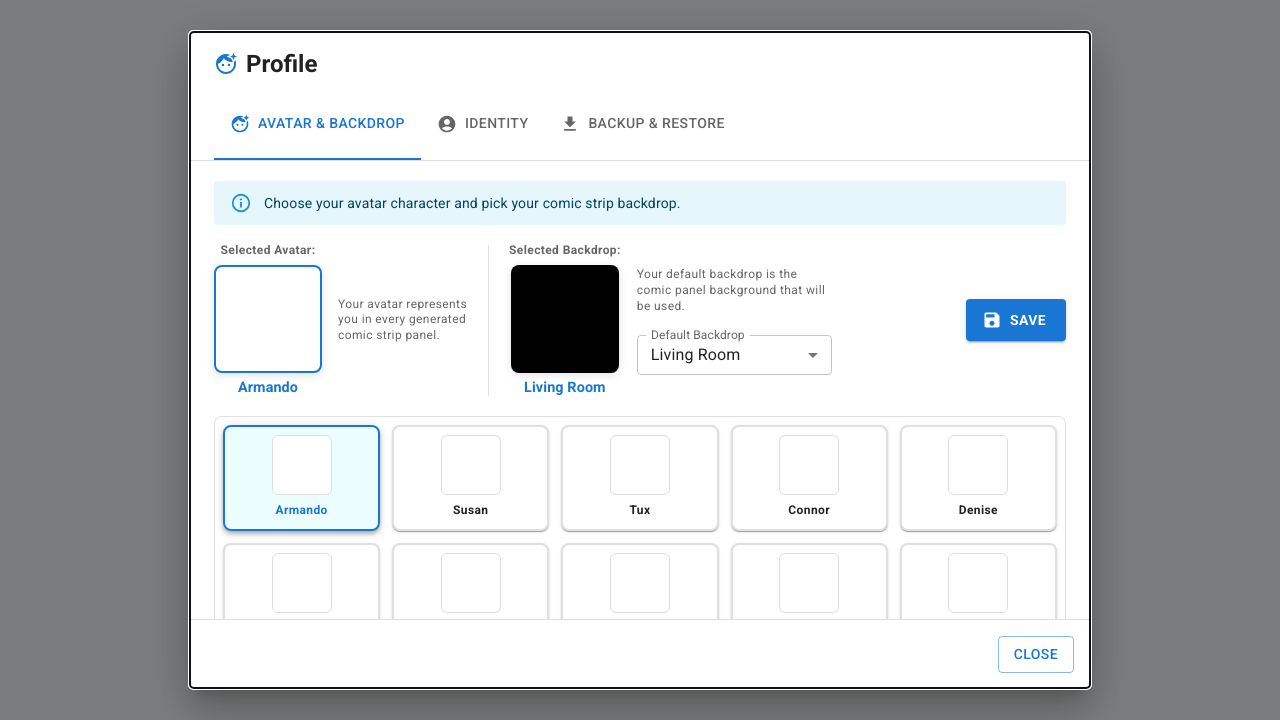
Test: Cloud Export & Cloud Restore E2E Flow › renders Cloud Export button to the left of Export File with a cloud icon
Click the tab "Backup & Restore".
click(643, 124)  # box [544, 88, 741, 160]
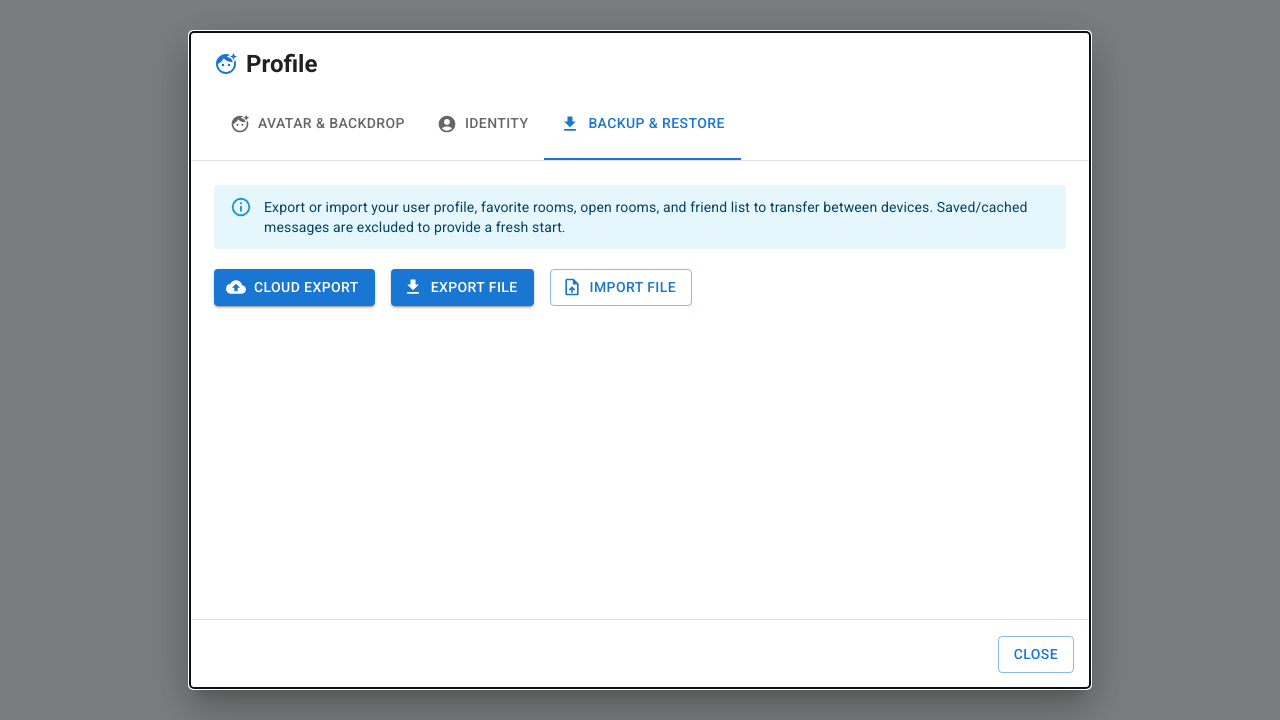
expect the button "Cloud Export" is shown: met, box [214, 269, 375, 306]
expect the button "Export File" is shown: met, box [391, 269, 534, 306]
